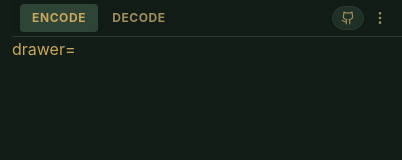
Test case: Header › opens the changelog drawer from the mobile menu item
Click the button named "More" at point(380, 18), box [366,4,394,32]
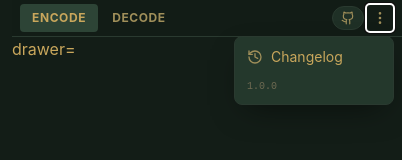
Click the menu item "Changelog" at point(314, 57), box [239,41,389,73]
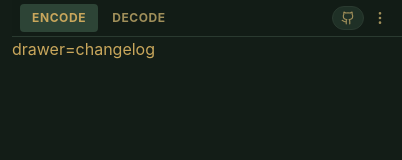
Result: the text "drawer=changelog" is shown at [12,39,155,59]
